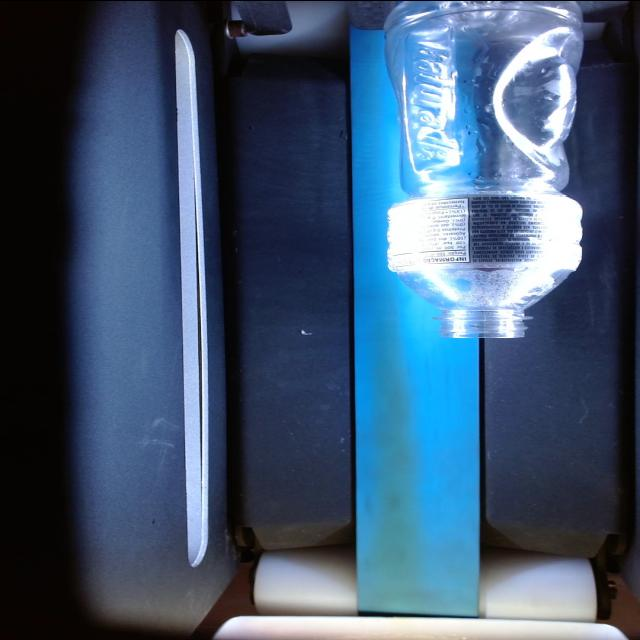bottom: (385, 0, 583, 195)
label: (389, 193, 582, 270)
neck: (398, 266, 570, 336)
